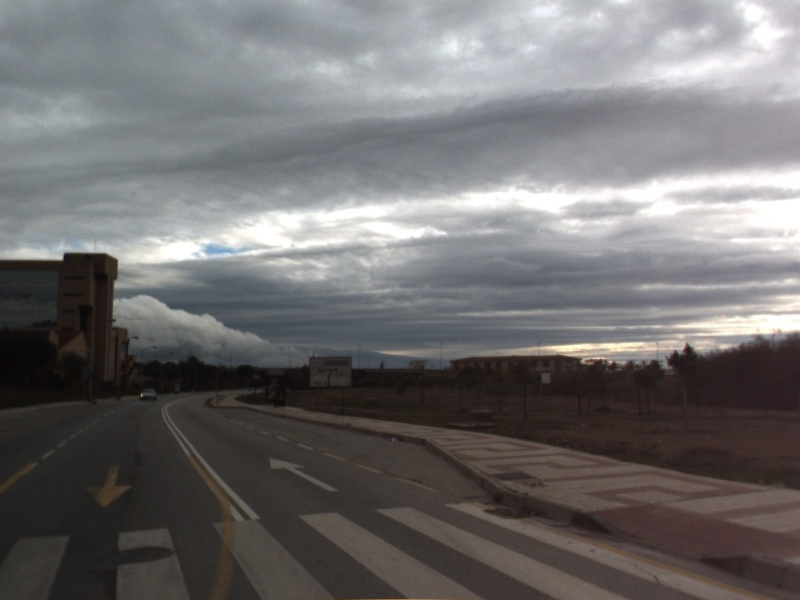STRAIGHT: (267, 455, 342, 494)
